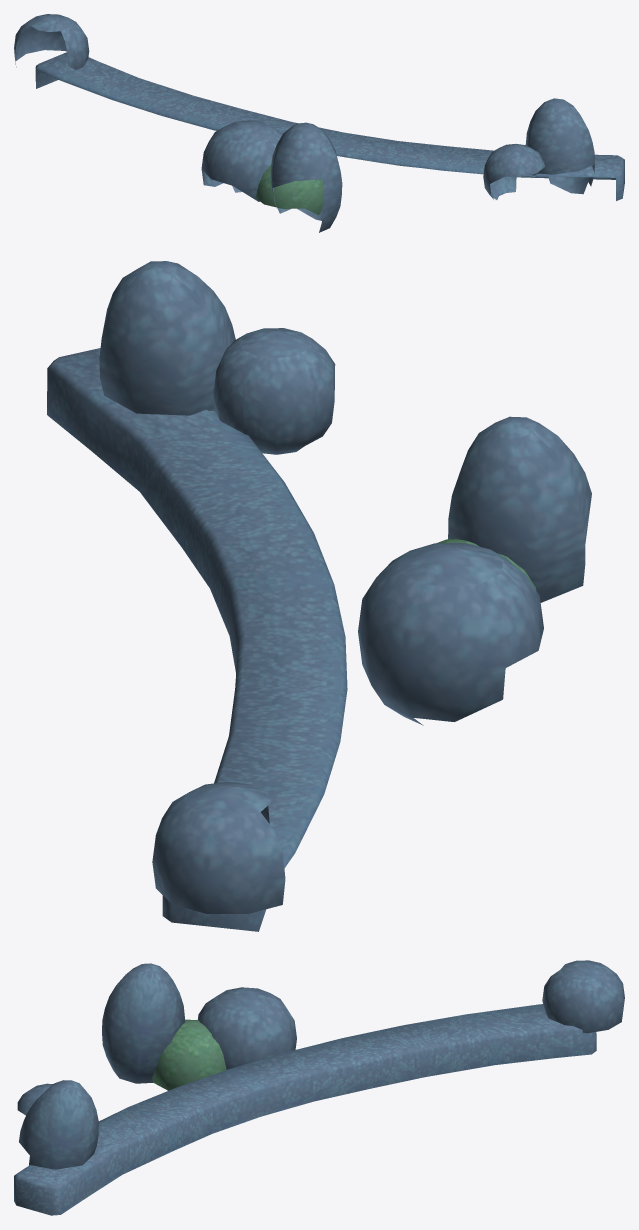
Rendered from pref_sm_beach_bk_winter_pointmol_longplant_R02_lv0.fbx.
The picture shows the model from 3 angles, top to bottom: view 1: azimuth 30°, elevation 25°; view 2: azimuth 150°, elevation 25°; view 3: azimuth 270°, elevation 25°; orthographic projection. The views are drawn at different scales.
Visible parts, largest first — view 1: pref_sm_beach_bk_winter_pointmol_longplant_R02_lv0; view 2: pref_sm_beach_bk_winter_pointmol_longplant_R02_lv0; view 3: pref_sm_beach_bk_winter_pointmol_longplant_R02_lv0.
Part boxes in pixels (left/top/right/bottom): pref_sm_beach_bk_winter_pointmol_longplant_R02_lv0: left=14, top=14, right=624, bottom=232; pref_sm_beach_bk_winter_pointmol_longplant_R02_lv0: left=47, top=261, right=591, bottom=931; pref_sm_beach_bk_winter_pointmol_longplant_R02_lv0: left=14, top=960, right=624, bottom=1215.
Bounding box in the file's own units: 17.38 × 4.96 × 23.11.
